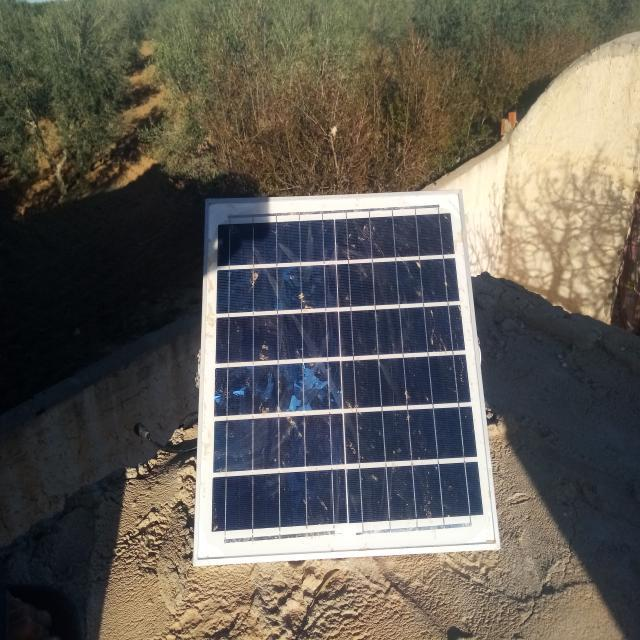no faulty: (194, 193, 499, 568)
